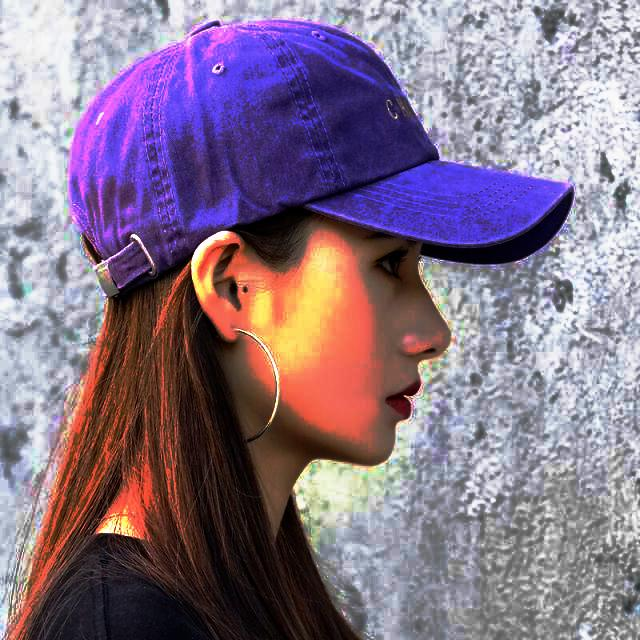TOPI: (69, 19, 576, 293)
